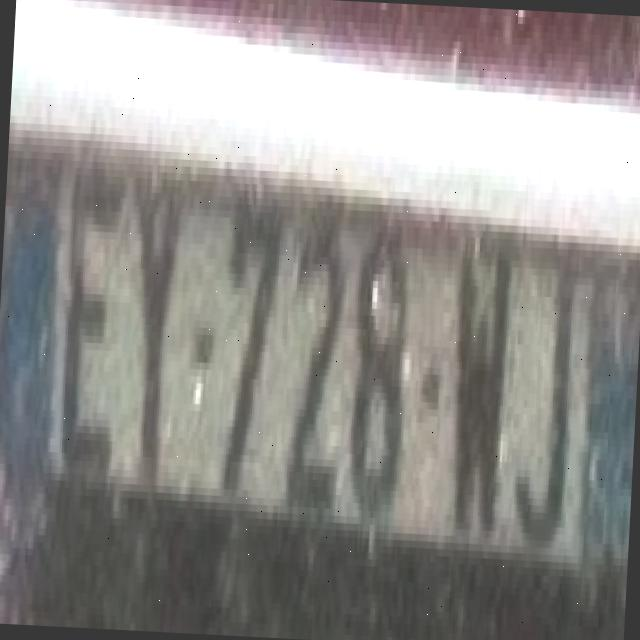Autre: (0, 131, 640, 567)
